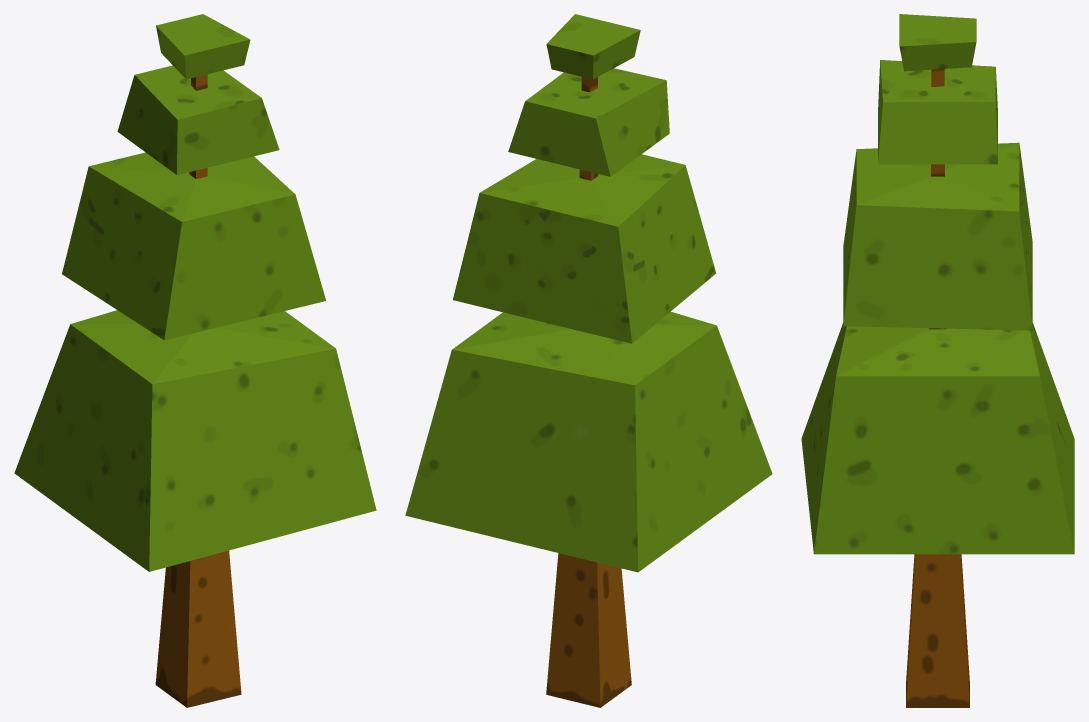
Rendered from tree-xl.fbx.
3 views of the same model, side by side, from view 1: azimuth 30°, elevation 25°; view 2: azimuth 150°, elevation 25°; view 3: azimuth 270°, elevation 25° (orthographic).
Parts seen in each view (by area): view 1: Cube; view 2: Cube; view 3: Cube.
Part boxes in pixels (box(x1,y1,x2,y2)): Cube: box(14, 14, 376, 707); Cube: box(405, 14, 772, 707); Cube: box(801, 14, 1074, 707).
Bounding box in the file's own units: 135 × 363 × 135.
